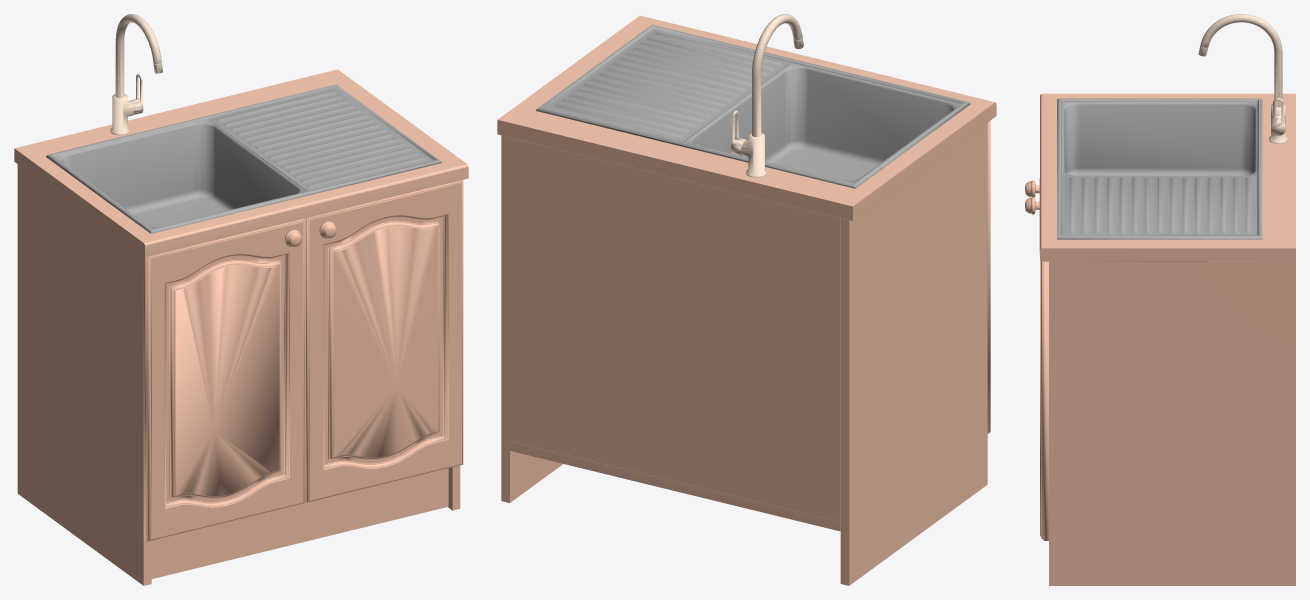
File: assets_projeto_integrador_casa.fbx_Cupboard_var_5_with_sink.fbx
3 views of the same model, side by side, from view 1: azimuth 30°, elevation 25°; view 2: azimuth 150°, elevation 25°; view 3: azimuth 270°, elevation 25° (orthographic). The views are drawn at different scales.
Visible parts, largest first — view 1: Cupboard var.5 with sink; view 2: Cupboard var.5 with sink; view 3: Cupboard var.5 with sink.
Part boxes in pixels (bbox=[...]): Cupboard var.5 with sink: bbox=[14, 14, 468, 585]; Cupboard var.5 with sink: bbox=[497, 14, 996, 585]; Cupboard var.5 with sink: bbox=[1025, 14, 1295, 585].
Size of the model in its own units: 81.92 by 115 by 60.62.
